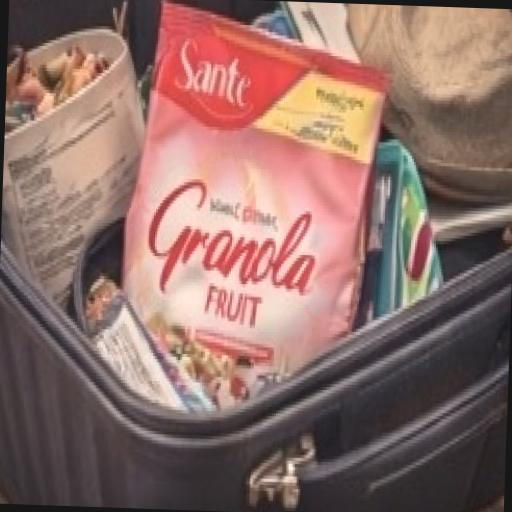granola: (81, 0, 429, 430)
